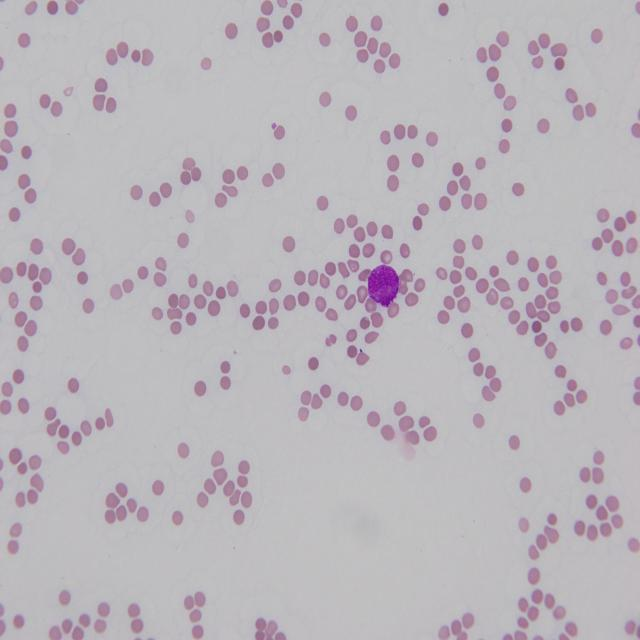cell: (368, 265, 399, 306)
